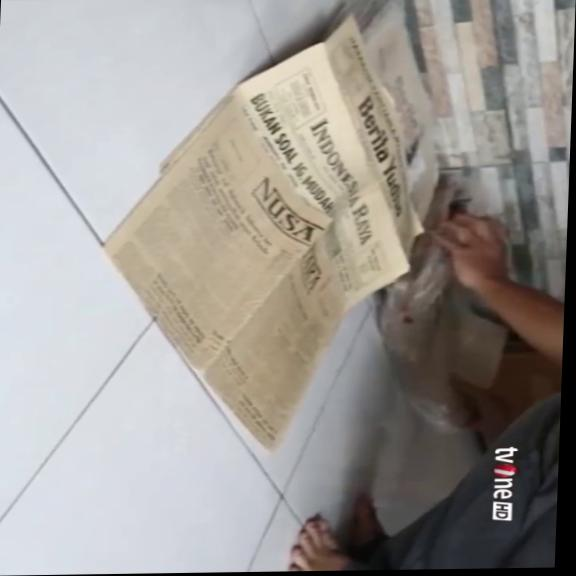Kertas: (106, 17, 407, 448)
